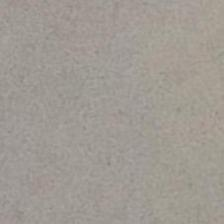Non_Crack: (20, 20, 207, 224)
